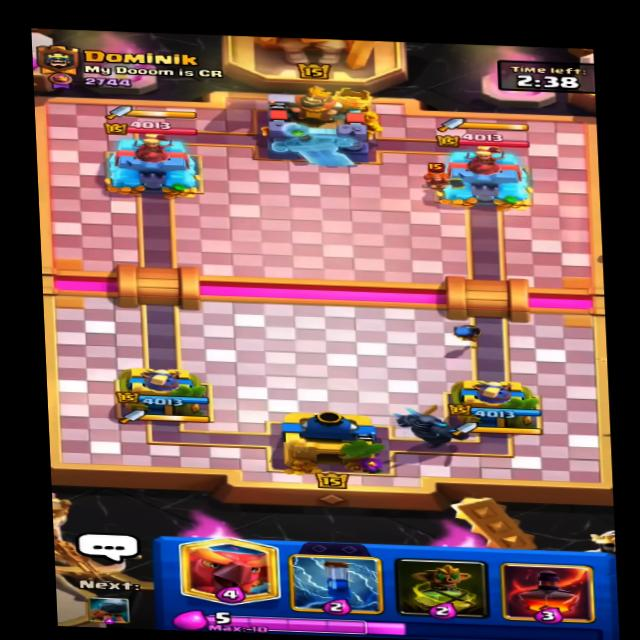valkyrie: (410, 162, 467, 194)
